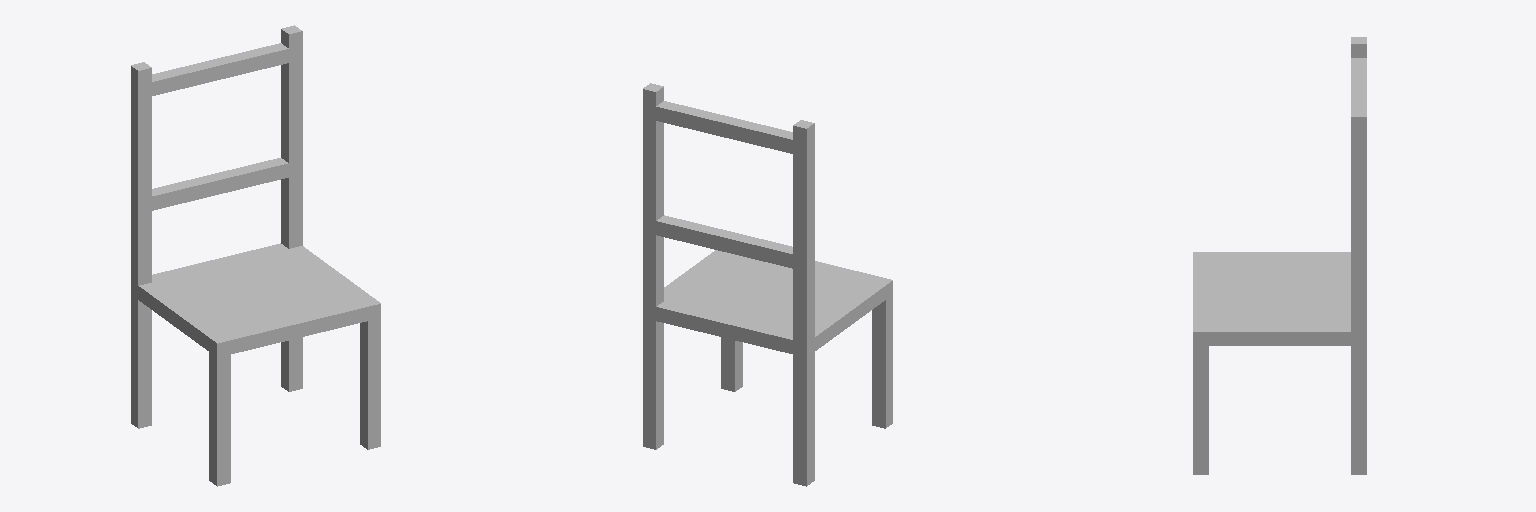
Rendered from chair1.obj.
3 renders of one model, left to right at view 1: azimuth 30°, elevation 25°; view 2: azimuth 150°, elevation 25°; view 3: azimuth 270°, elevation 25°, orthographic.
Parts seen in each view (by area): view 1: object 1; view 2: object 1; view 3: object 1.
Boxes of the visible parts, x1,y1,x2,y2 form: object 1: [131, 25, 380, 486]; object 1: [643, 83, 892, 486]; object 1: [1193, 37, 1366, 474].
Size of the model in its own units: 1.2 by 2.5 by 1.1.